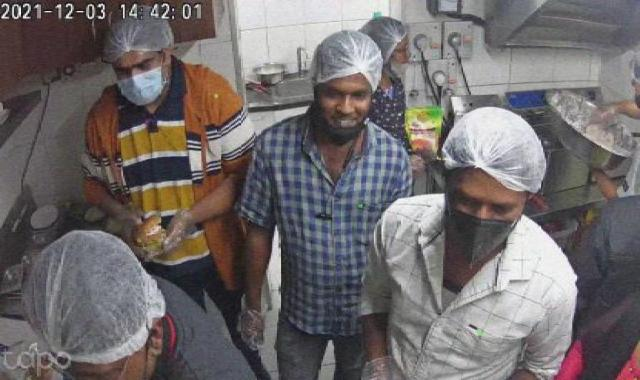hairnet: (20, 226, 176, 368), (432, 98, 551, 201), (80, 6, 197, 72), (298, 30, 378, 100), (360, 14, 428, 58)
